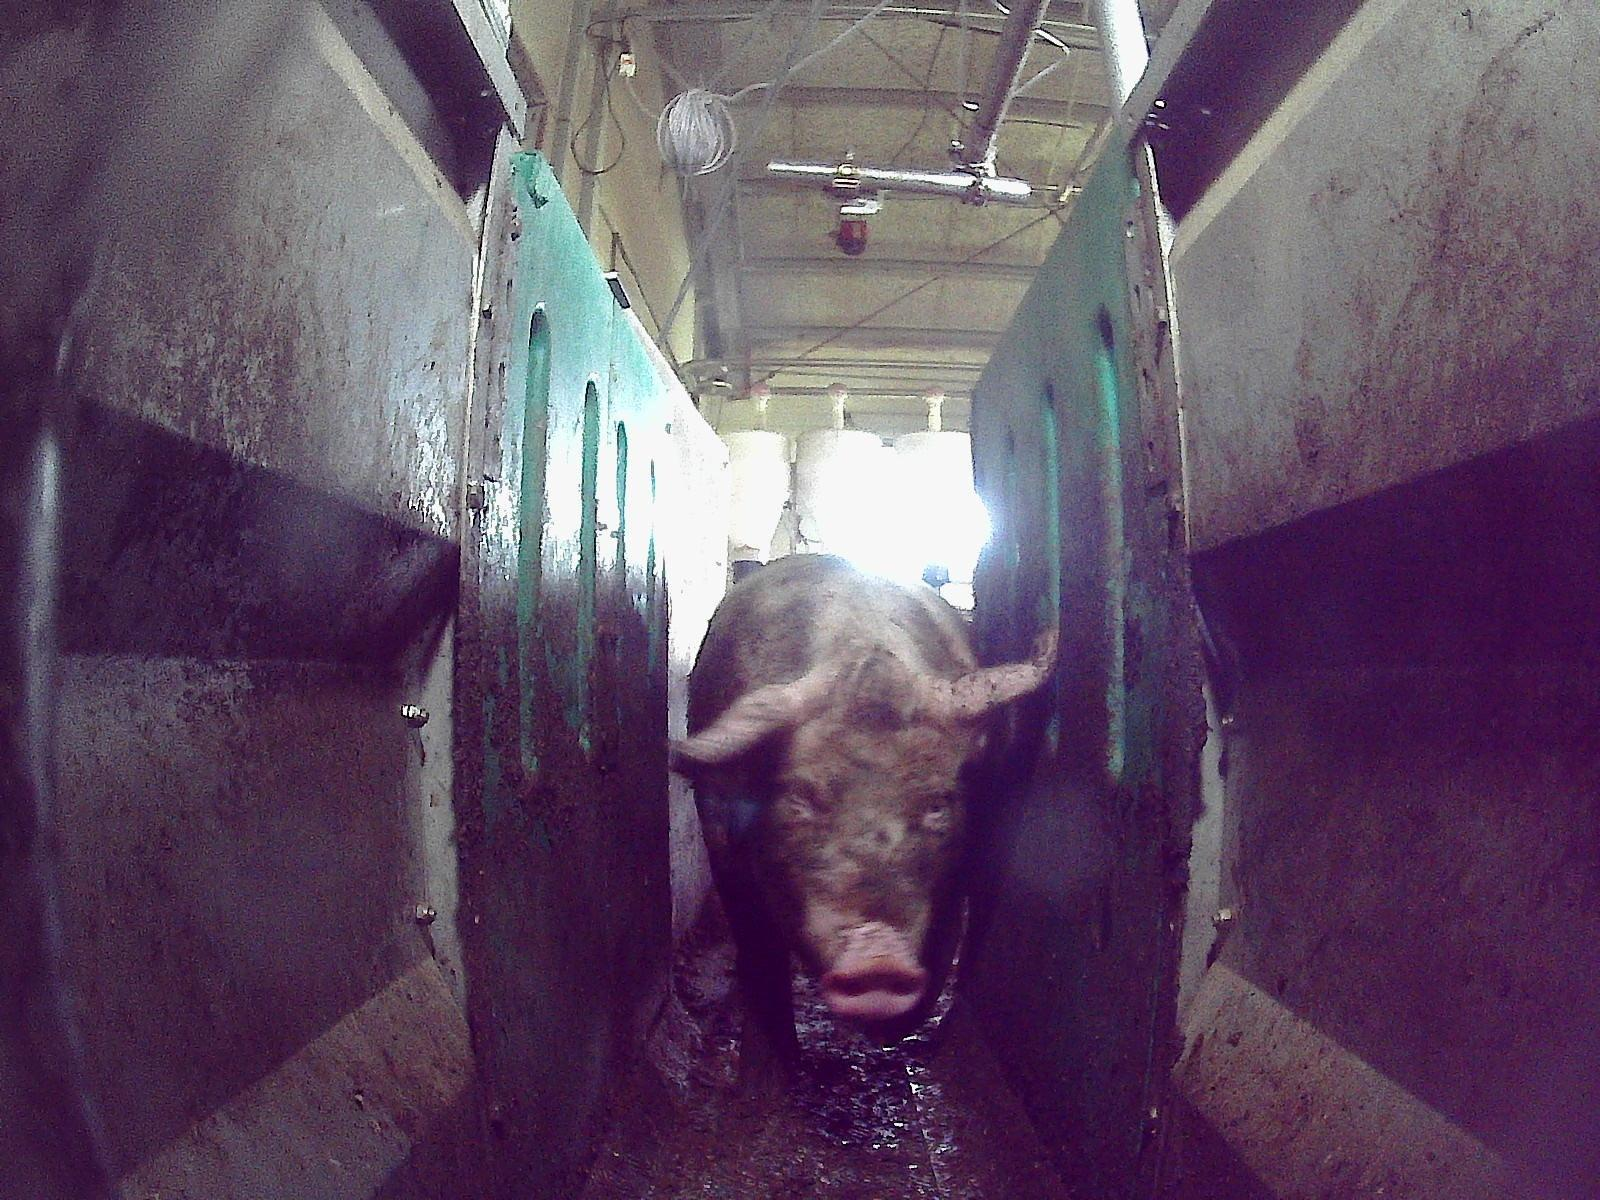Face: (758, 704, 960, 1019)
